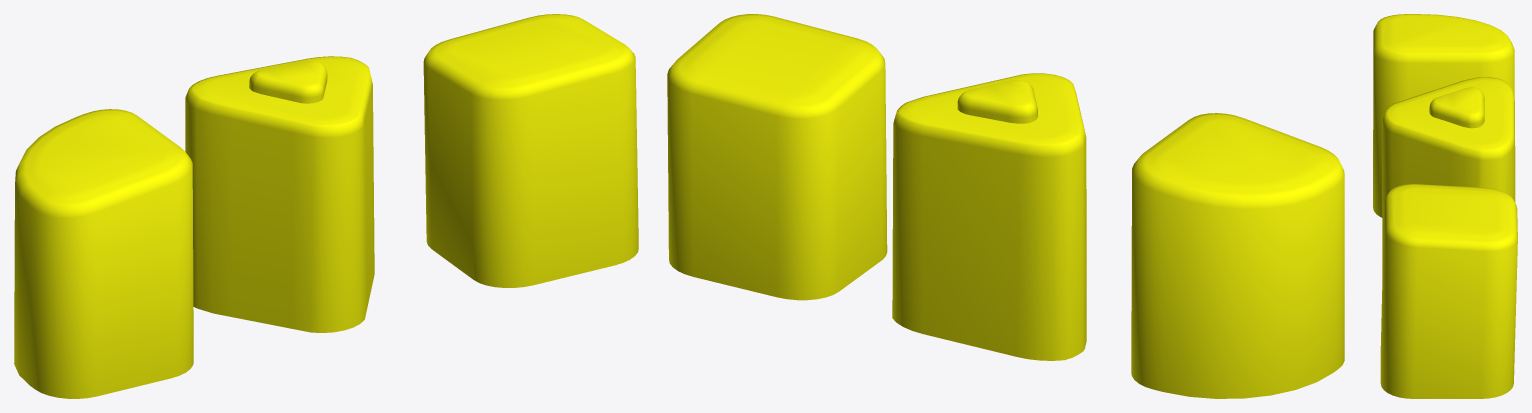
The model's file is AnimatedBlocks_.glb.
The picture shows the model from 3 angles, left to right: view 1: azimuth 30°, elevation 25°; view 2: azimuth 150°, elevation 25°; view 3: azimuth 270°, elevation 25°; orthographic projection. The views are drawn at different scales.
Parts seen in each view (by area): view 1: Block1, HeadBlock1, CornerBlock1; view 2: Block1, CornerBlock1, HeadBlock1; view 3: Block1, HeadBlock1, CornerBlock1.
Boxes of the visible parts, left/top/right/bottom form: Block1: left=423, top=14, right=638, bottom=287; HeadBlock1: left=185, top=56, right=374, bottom=332; CornerBlock1: left=14, top=109, right=193, bottom=398; Block1: left=667, top=14, right=887, bottom=300; CornerBlock1: left=1131, top=113, right=1344, bottom=398; HeadBlock1: left=892, top=73, right=1086, bottom=360; Block1: left=1380, top=184, right=1517, bottom=398; HeadBlock1: left=1382, top=77, right=1515, bottom=275; CornerBlock1: left=1373, top=14, right=1514, bottom=217.
Bounding box in the file's own units: 3.74 × 1.32 × 0.9724.
1 material, 1 textured.
